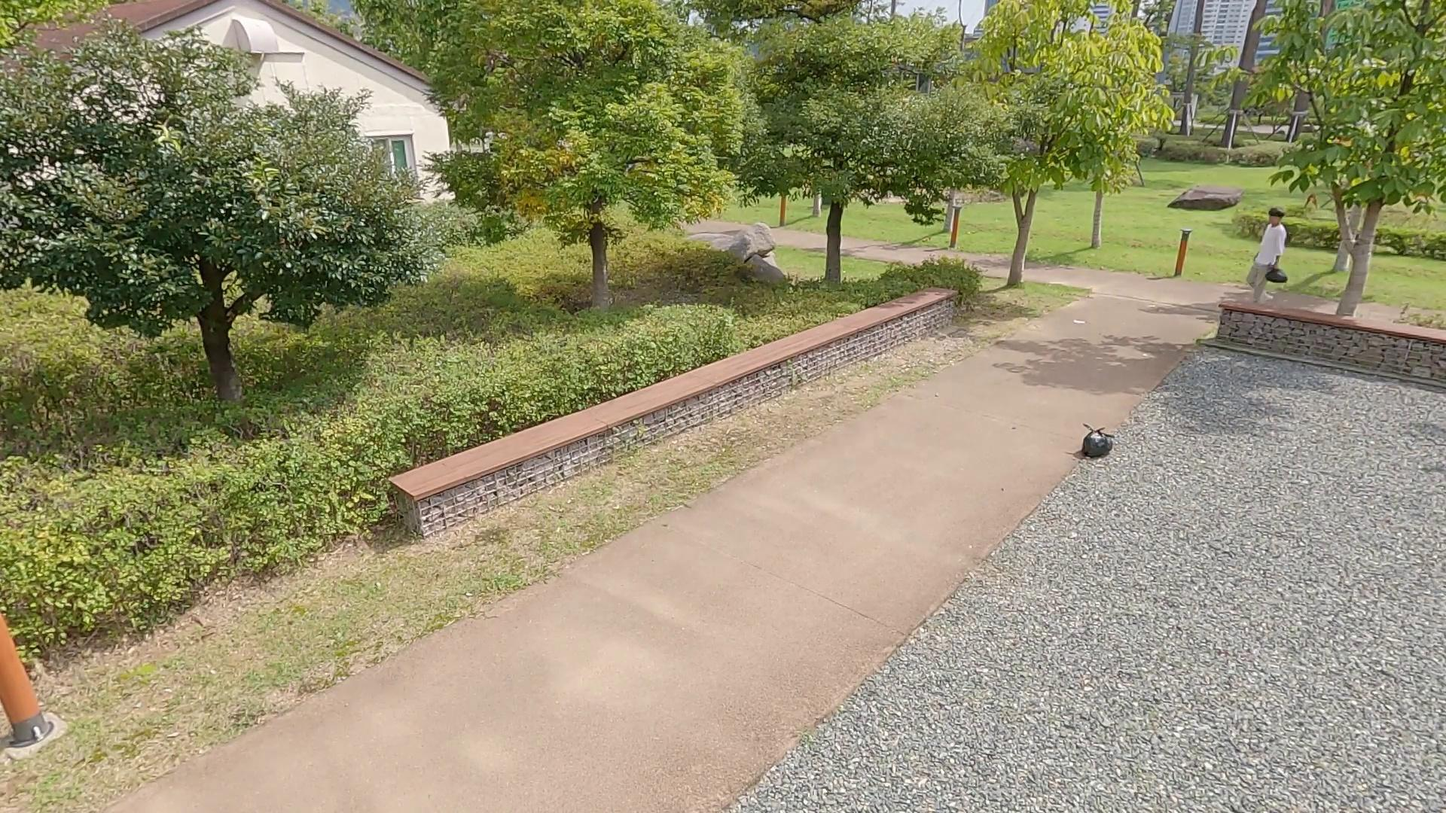person: (1236, 203, 1302, 305)
trash: (1071, 416, 1119, 467), (1264, 263, 1289, 287)
